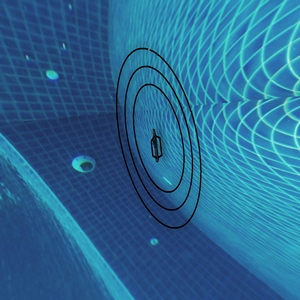circle: (100, 34, 216, 233)
submarine: (151, 130, 165, 162)
